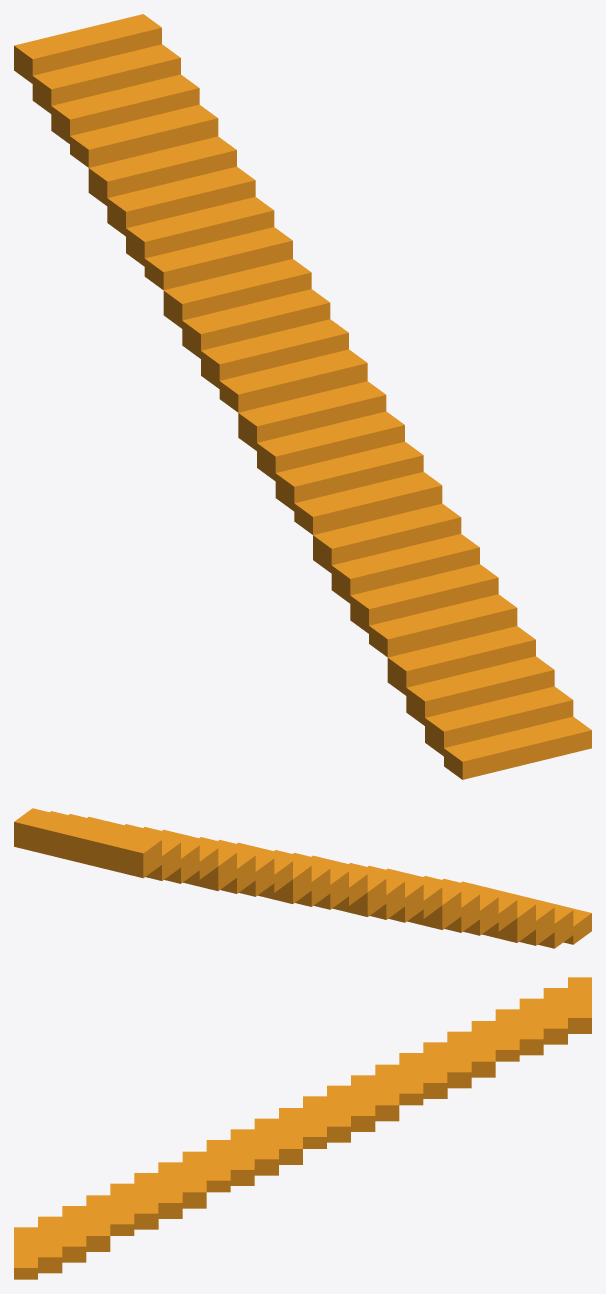
The model's file is SM_Buildings_Stairs_1x3_02.fbx.
The picture shows the model from 3 angles, top to bottom: view 1: azimuth 30°, elevation 25°; view 2: azimuth 150°, elevation 25°; view 3: azimuth 270°, elevation 25°; orthographic projection. The views are drawn at different scales.
Parts seen in each view (by area): view 1: SM_Buildings_Stairs_1x3_02; view 2: SM_Buildings_Stairs_1x3_02; view 3: SM_Buildings_Stairs_1x3_02.
Part boxes in pixels (bbox=[...]): SM_Buildings_Stairs_1x3_02: bbox=[14, 14, 591, 779]; SM_Buildings_Stairs_1x3_02: bbox=[14, 808, 591, 948]; SM_Buildings_Stairs_1x3_02: bbox=[14, 977, 591, 1279].
Size of the model in its own units: 100 by 300 by 600.
